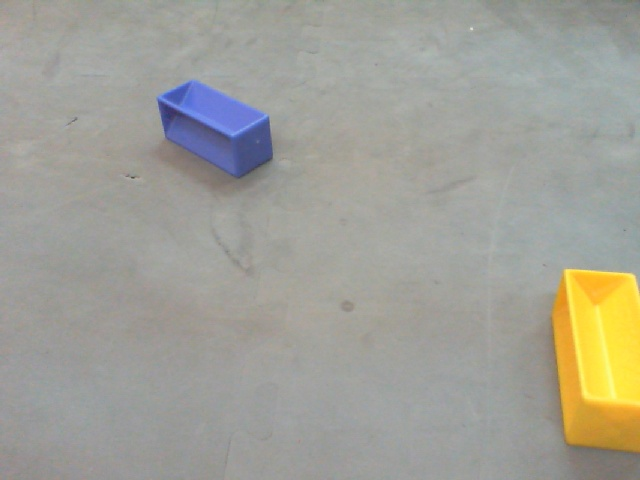BlueSample: (151, 79, 274, 180)
YellowSample: (548, 260, 640, 452)
